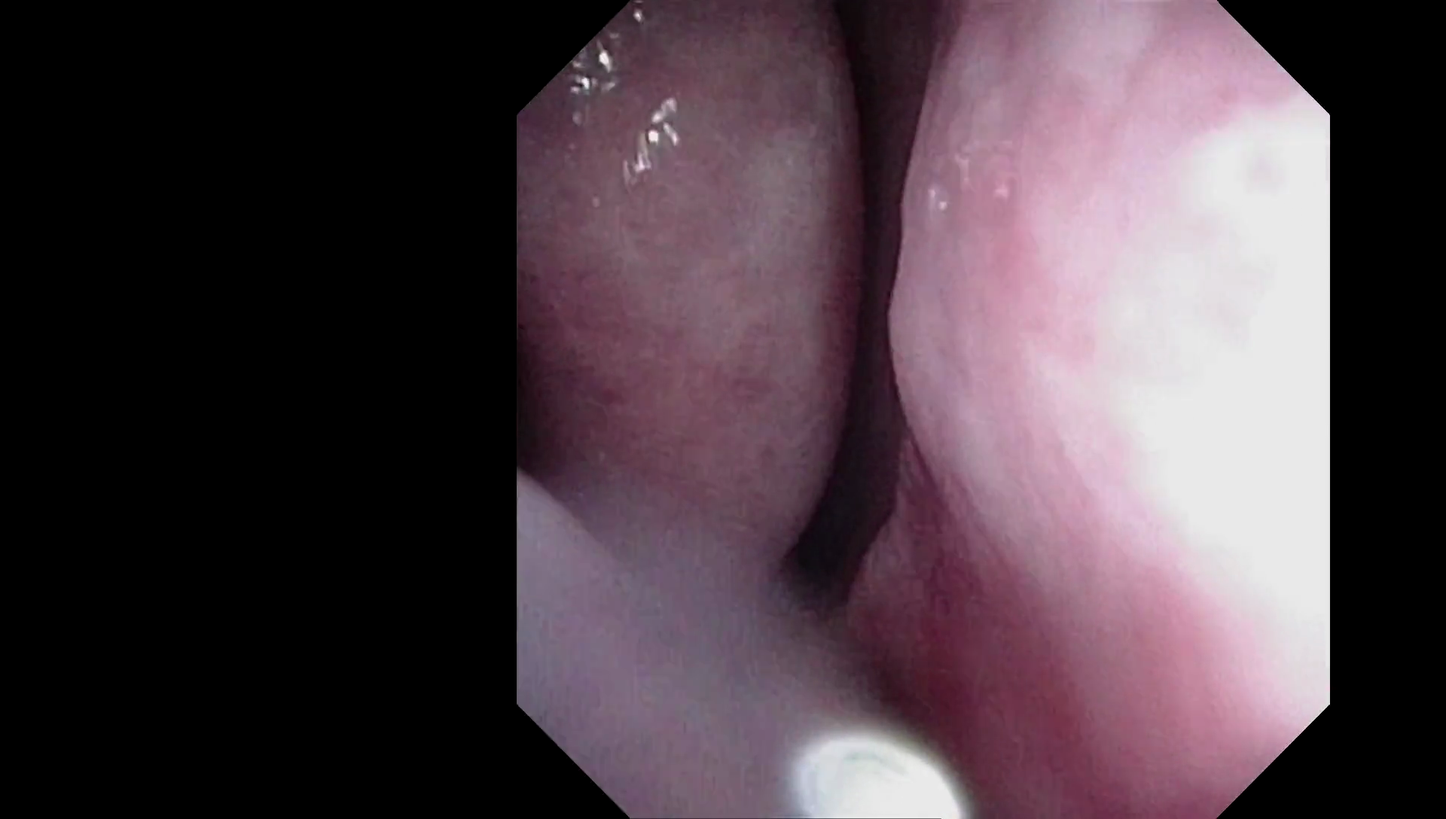close_wall: (953, 141, 1327, 698)
next: (763, 0, 935, 623), (521, 299, 629, 510)
